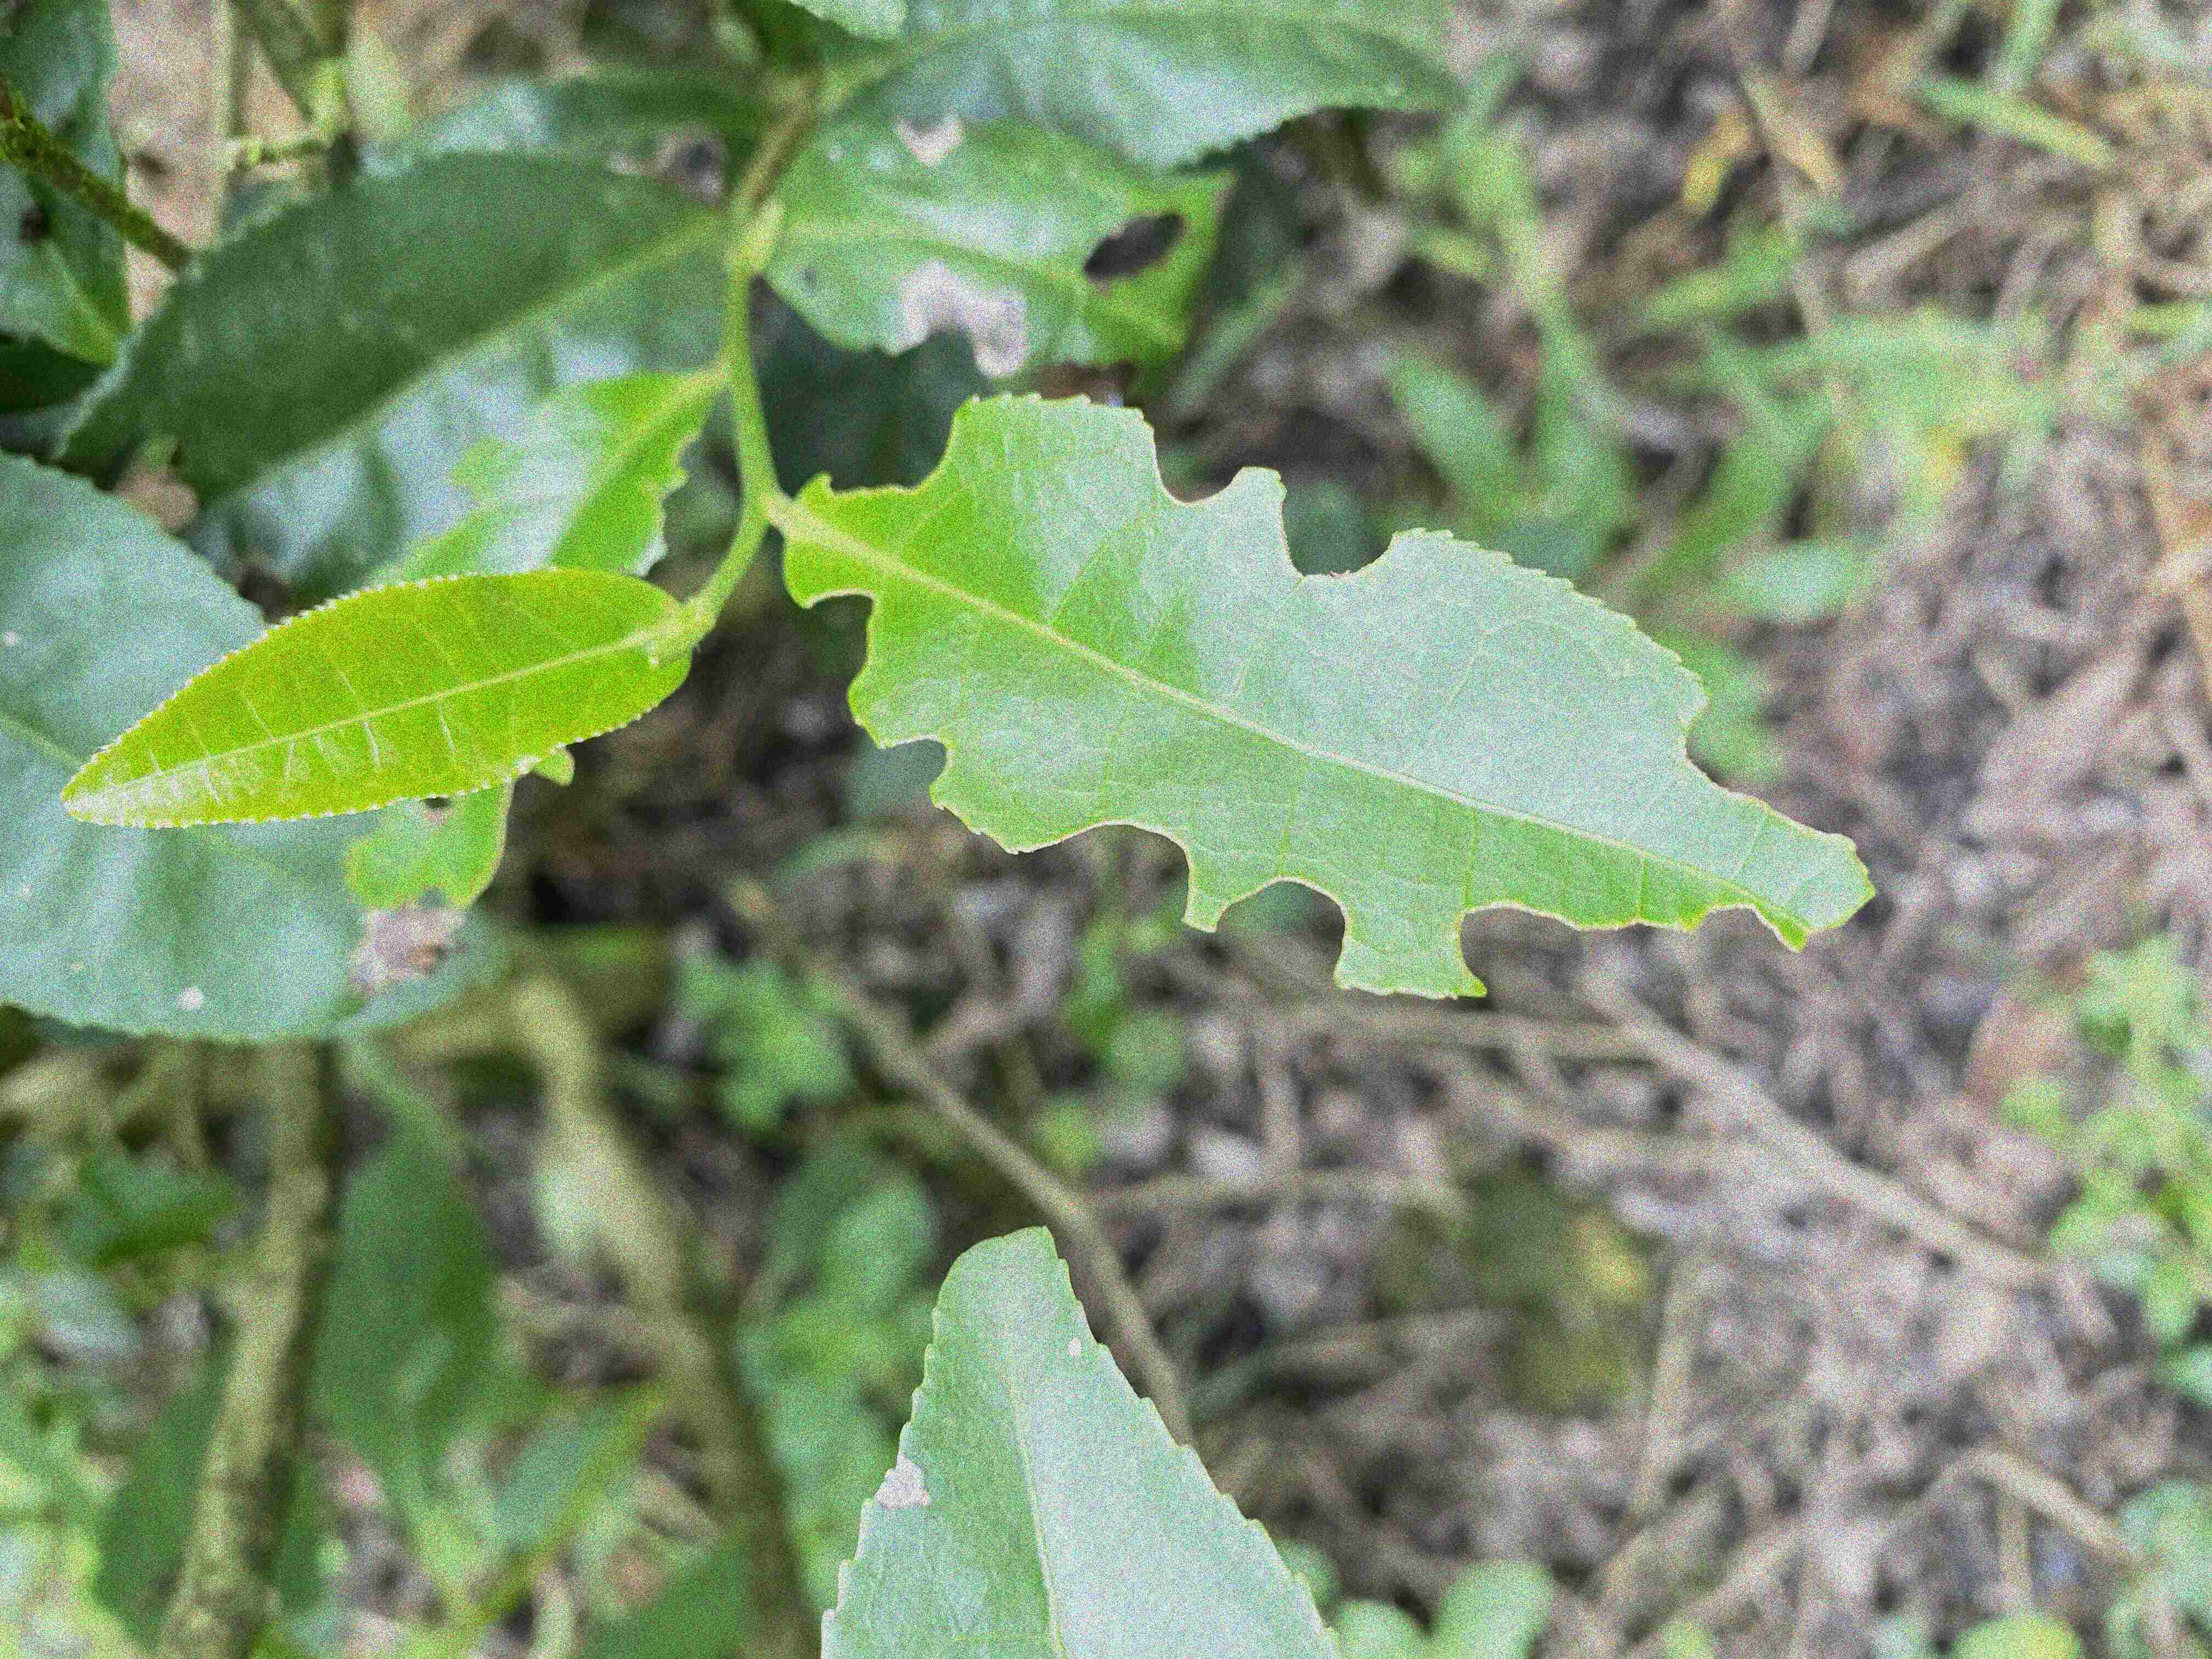chihuo_high: (791, 390, 1879, 1002), (343, 364, 732, 911)
healthy: (54, 570, 693, 831)
tanju_low: (813, 1227, 1346, 1657)
